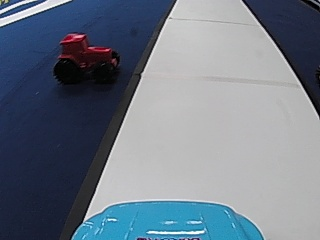tractor: (52, 30, 120, 84)
